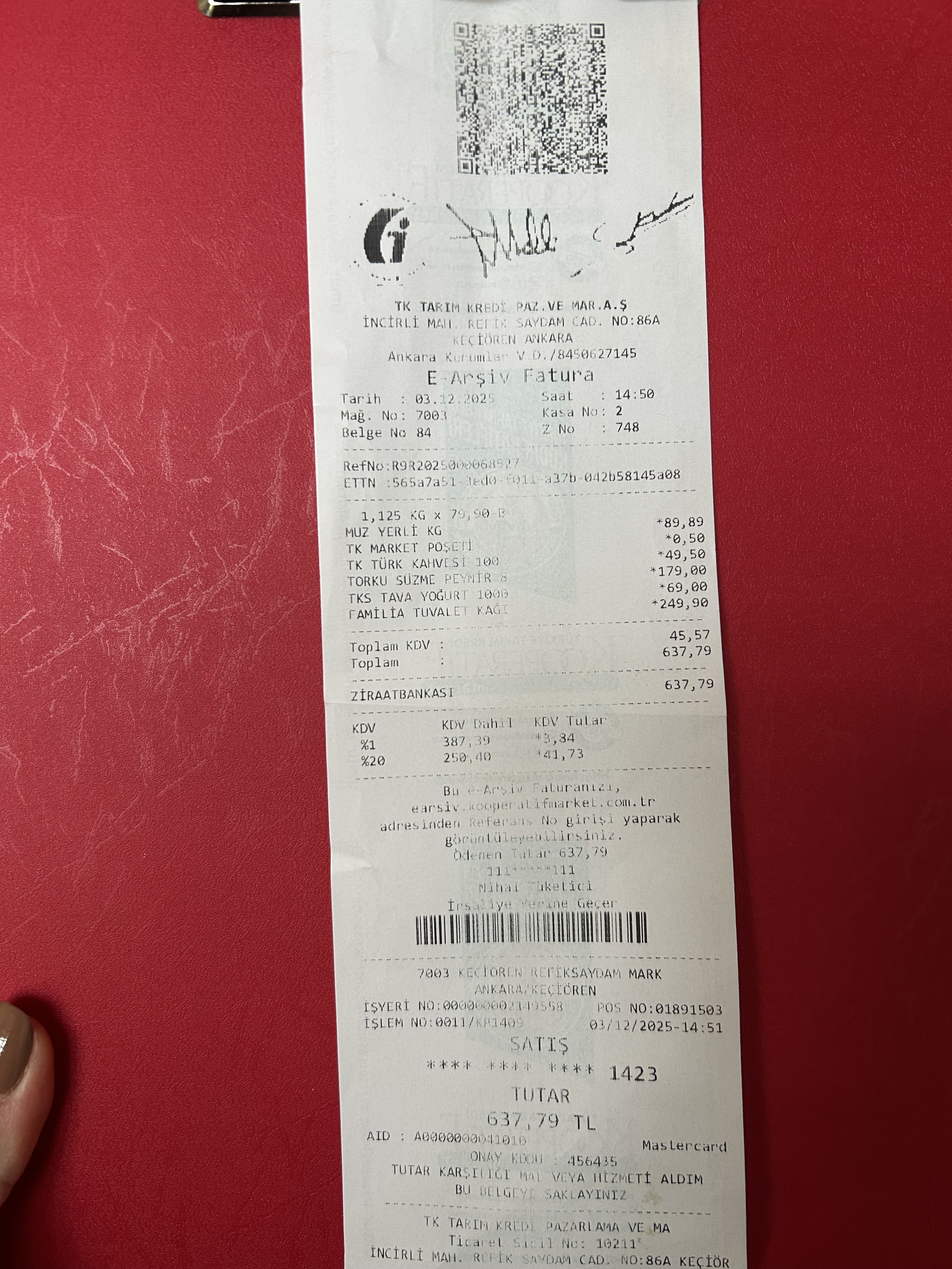date: (411, 386, 498, 410)
price: (654, 642, 714, 660)
workplace: (358, 294, 668, 346)
